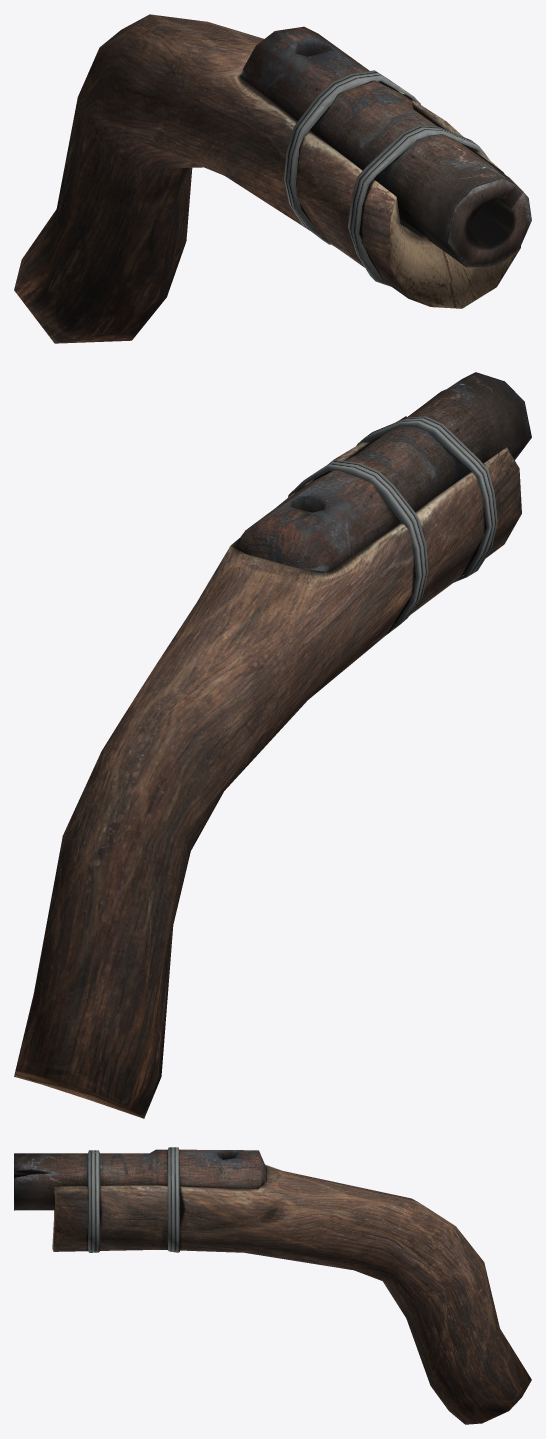
Rendered from йока.fbx.
3 views of the same model, one above another, from view 1: azimuth 30°, elevation 25°; view 2: azimuth 150°, elevation 25°; view 3: azimuth 270°, elevation 25° (orthographic). The views are drawn at different scales.
Parts seen in each view (by area): view 1: eoka; view 2: eoka; view 3: eoka.
Boxes of the visible parts, x1,y1,x2,y2 form: eoka: (14, 14, 531, 343); eoka: (14, 372, 531, 1118); eoka: (14, 1147, 531, 1424).
Bounding box in the file's own units: 506 × 1492 × 2609.
Materials: 1 (1 with a texture image).
